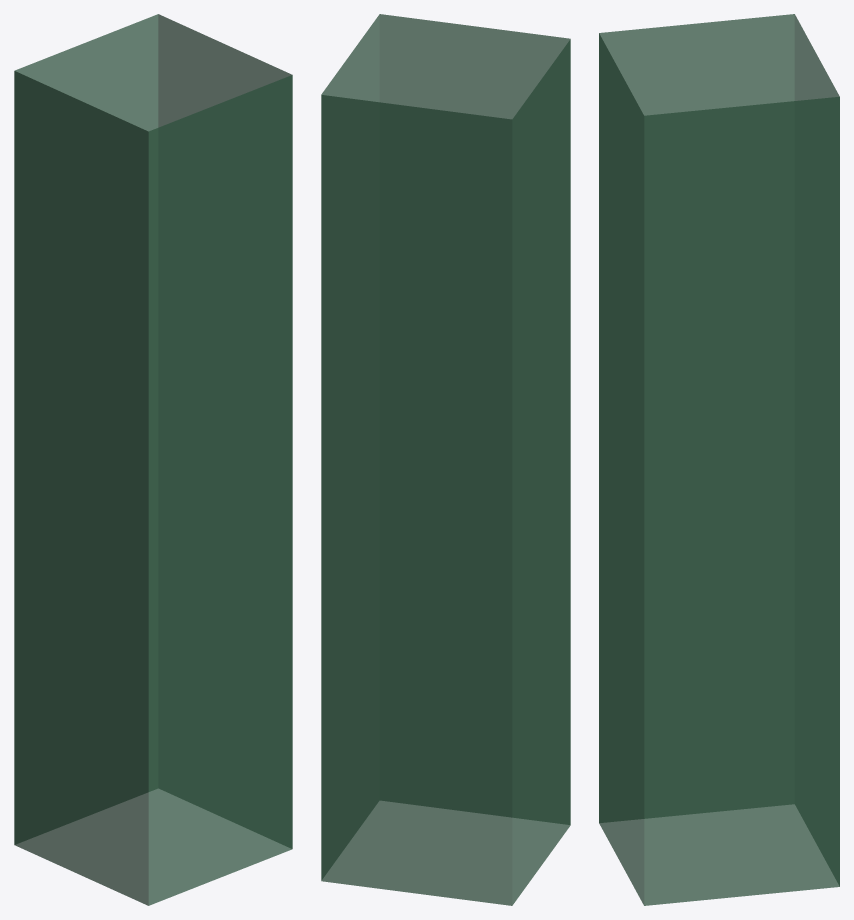
File: TheOctagon_CntStr_Crystal.gltf
3 renders of one model, left to right at view 1: azimuth 30°, elevation 25°; view 2: azimuth 150°, elevation 25°; view 3: azimuth 270°, elevation 25°, orthographic. The views are drawn at different scales.
Visible parts, largest first — view 1: TheOctagon_CntStr_Crystal; view 2: TheOctagon_CntStr_Crystal; view 3: TheOctagon_CntStr_Crystal.
Boxes of the visible parts, x1,y1,x2,y2 form: TheOctagon_CntStr_Crystal: (14, 14, 292, 905); TheOctagon_CntStr_Crystal: (321, 14, 570, 905); TheOctagon_CntStr_Crystal: (599, 14, 839, 905).
Size of the model in its own units: 11.44 by 41.41 by 11.44.
